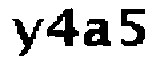4: (44, 7, 80, 52)
5: (116, 5, 148, 49)
a: (82, 18, 114, 49)
y: (9, 13, 44, 58)
